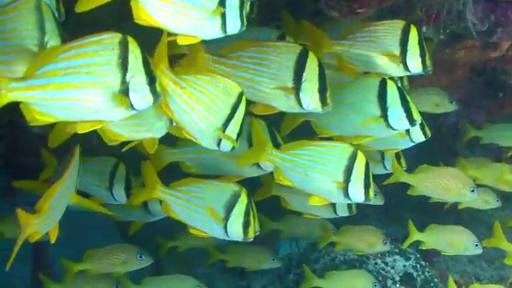Fish: (0, 32, 159, 132), (7, 145, 111, 270), (238, 119, 375, 204), (153, 32, 246, 151), (129, 161, 259, 241), (280, 76, 421, 143), (208, 40, 331, 114), (285, 16, 432, 76), (148, 120, 272, 178), (130, 0, 251, 44), (0, 0, 63, 77), (253, 175, 356, 218), (384, 160, 477, 202), (97, 102, 171, 152), (61, 244, 153, 276), (403, 220, 482, 255), (77, 156, 134, 203), (78, 156, 132, 203), (355, 120, 431, 152), (202, 27, 286, 54), (104, 200, 167, 235), (259, 214, 335, 242), (318, 225, 391, 254), (208, 244, 281, 271), (456, 157, 511, 191), (300, 264, 380, 287), (156, 232, 222, 256), (408, 87, 458, 113), (482, 221, 511, 265), (38, 272, 119, 287), (120, 274, 207, 287), (464, 124, 511, 147), (363, 151, 406, 174), (458, 188, 502, 209), (0, 216, 19, 239), (468, 284, 505, 287), (448, 276, 457, 287)
